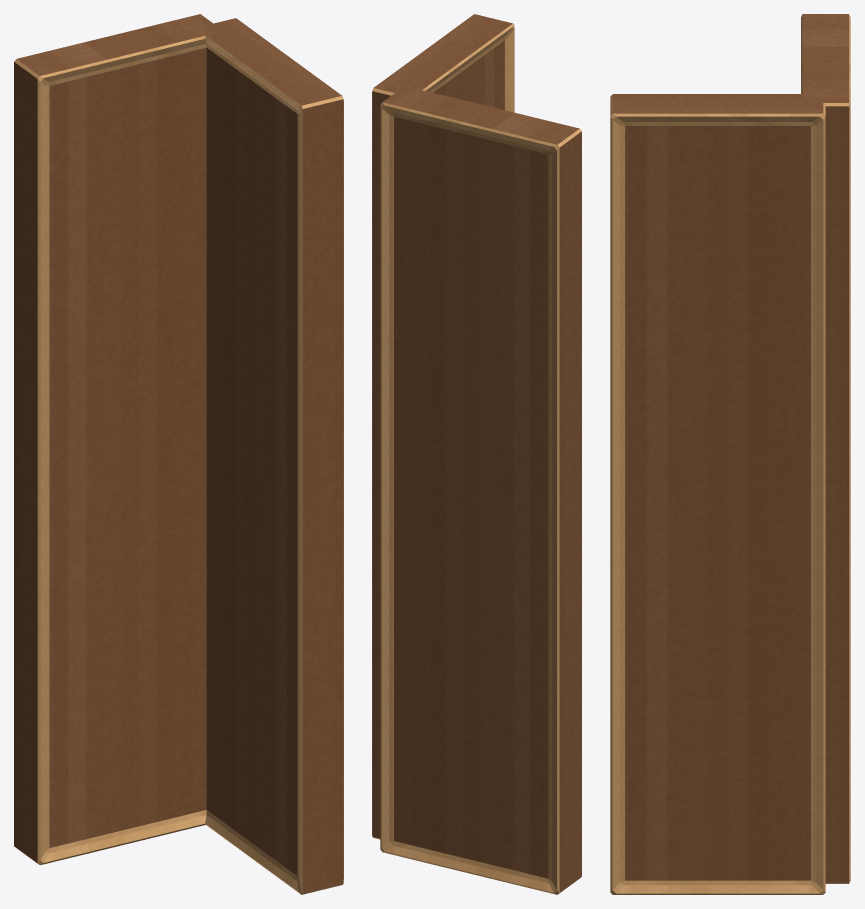
Rendered from sm_farm_wall_corner.glb.
3 renders of one model, left to right at view 1: azimuth 30°, elevation 25°; view 2: azimuth 150°, elevation 25°; view 3: azimuth 270°, elevation 25°, orthographic. The views are drawn at different scales.
Parts seen in each view (by area): view 1: sm_farm_wall_corner; view 2: sm_farm_wall_corner; view 3: sm_farm_wall_corner.
Boxes of the visible parts, box(x1,y1,x2,y2) form: sm_farm_wall_corner: box(14, 14, 343, 894); sm_farm_wall_corner: box(372, 14, 581, 894); sm_farm_wall_corner: box(610, 14, 850, 894).
Size of the model in its own units: 0.5577 by 2 by 0.5577.
Materials: 1 (1 with a texture image).
